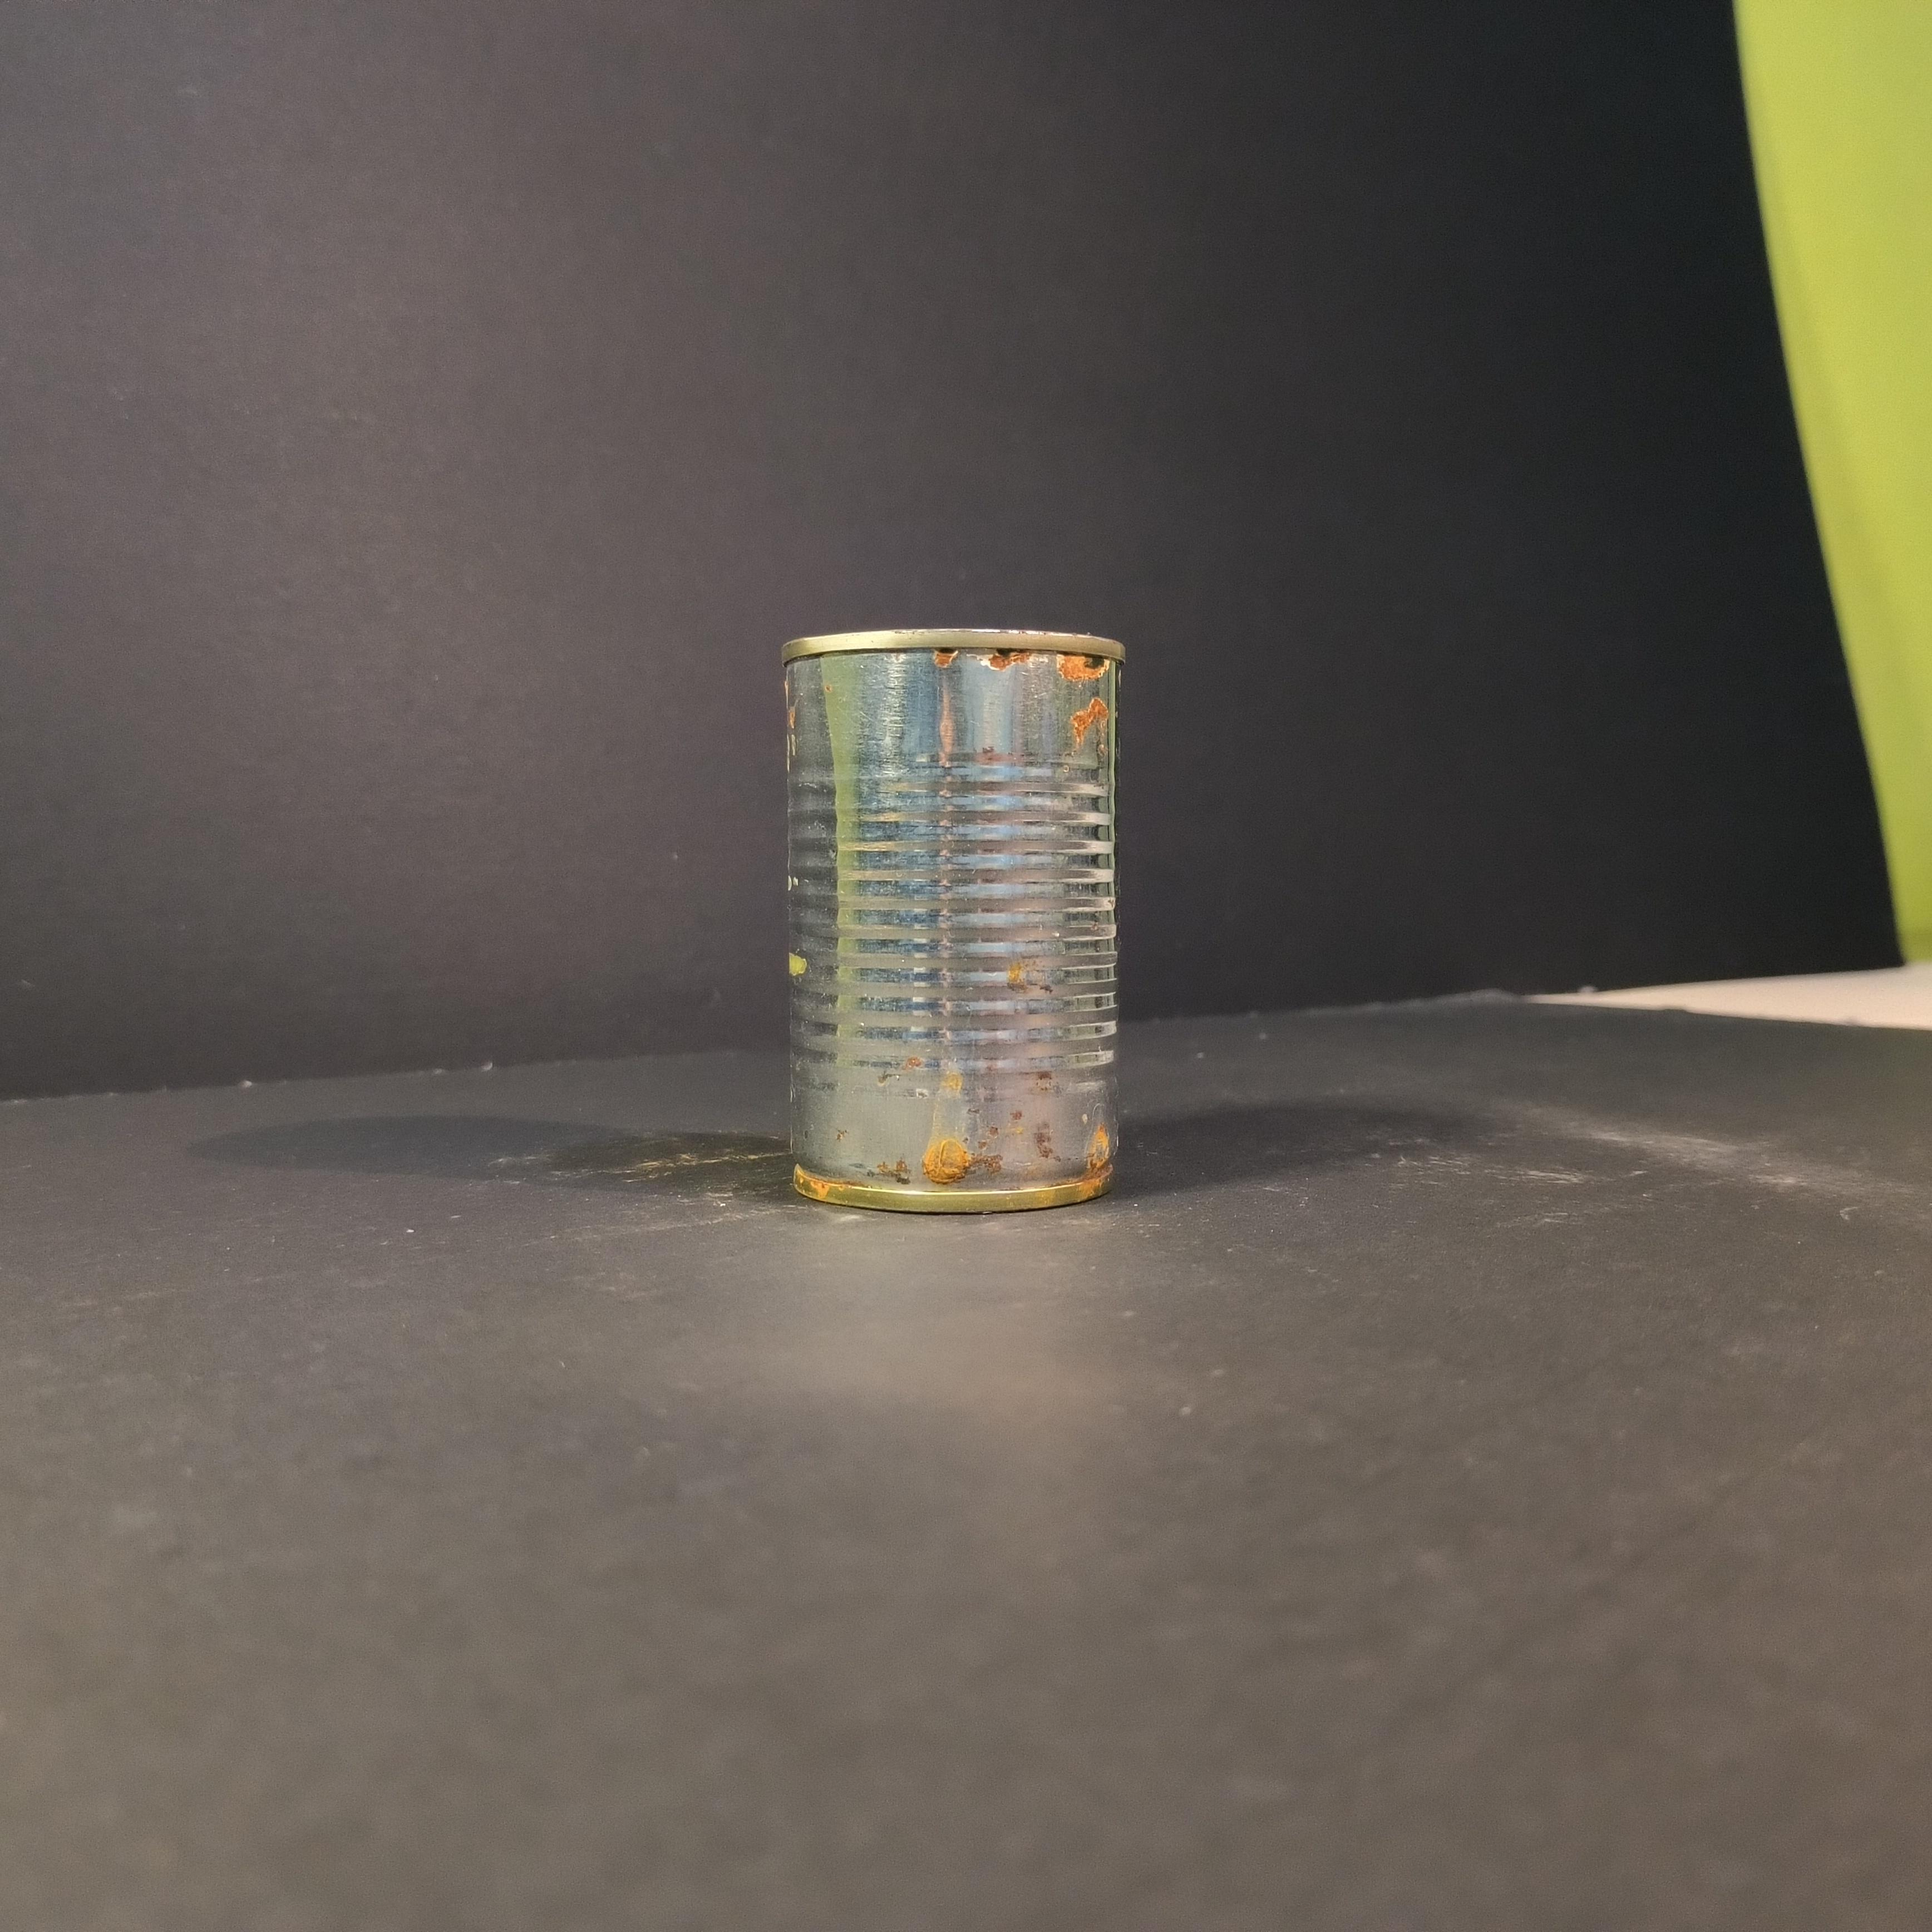Rusted: (771, 616, 1143, 1224)
